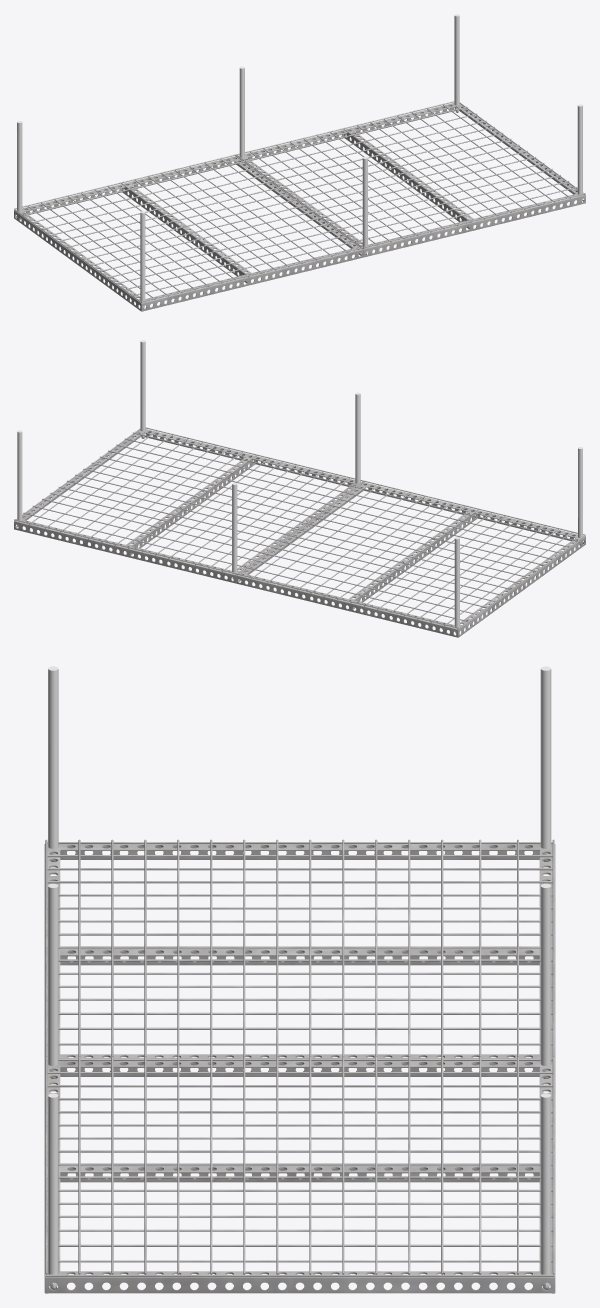
The picture shows the model from 3 angles, top to bottom: view 1: azimuth 30°, elevation 25°; view 2: azimuth 150°, elevation 25°; view 3: azimuth 270°, elevation 25°; orthographic projection. The views are drawn at different scales.
Parts seen in each view (by area): view 1: Grill2, Rods2; view 2: Grill2, Rods2; view 3: Grill2, Rods2.
Part boxes in pixels (x1,y1,x2,y2): Grill2: [14, 101, 585, 311]; Rods2: [17, 14, 582, 308]; Grill2: [14, 427, 585, 637]; Rods2: [17, 340, 582, 635]; Grill2: [44, 839, 555, 1293]; Rods2: [48, 666, 551, 1289].
Bounding box in the file's own units: 62.24 × 13.01 × 30.94.
Materials: 2 (2 with a texture image).
